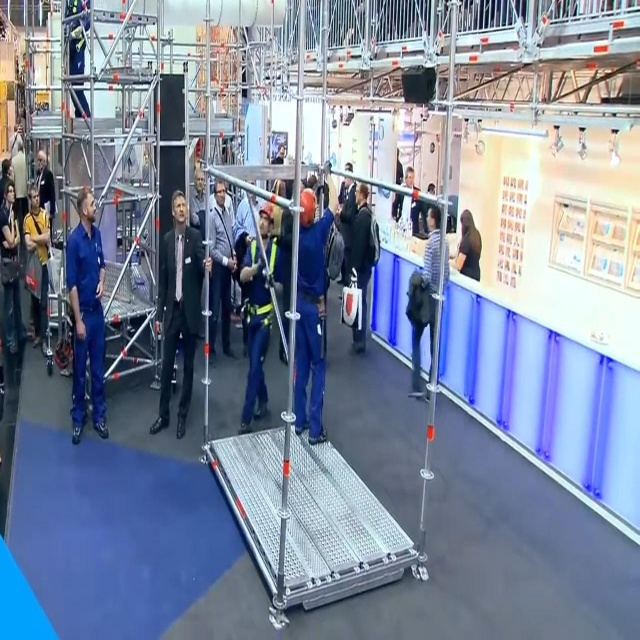Arnes_seguridad: (240, 224, 279, 346)
